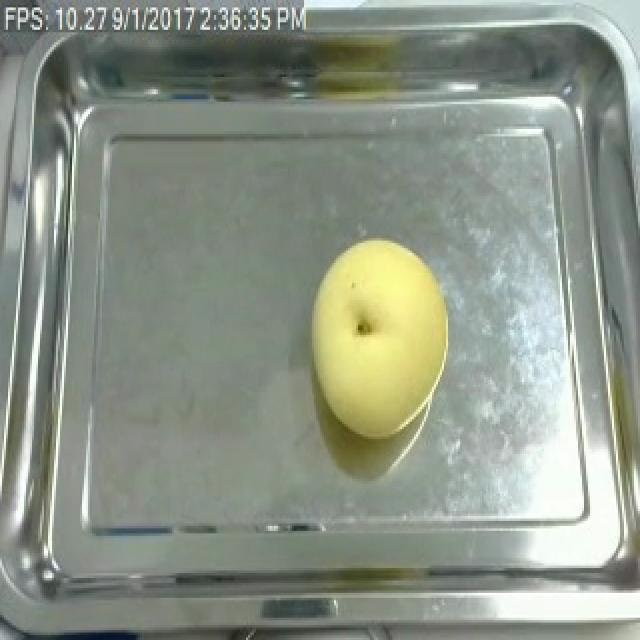Fruit: (300, 231, 458, 444)
